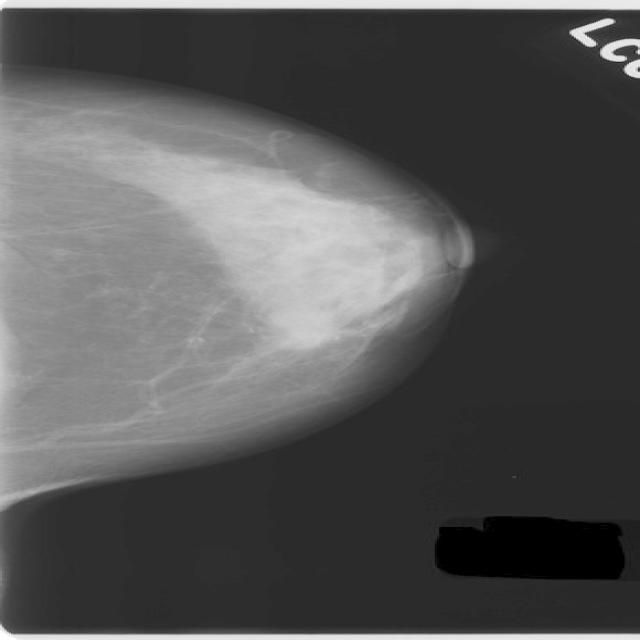tumour: (258, 298, 336, 349)
